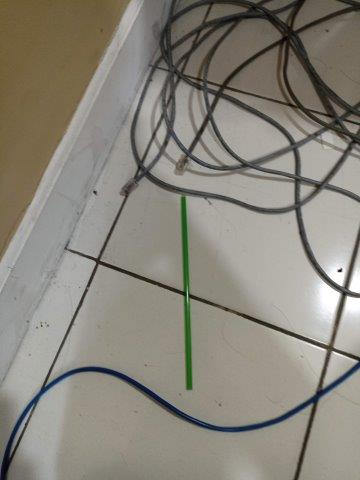sedotan: (180, 196, 193, 390)
